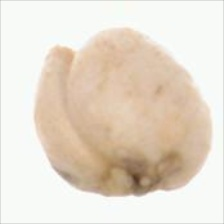L1: (50, 28, 121, 68), (104, 159, 168, 199)
L2: (34, 28, 212, 196)
